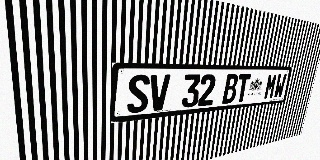2: (198, 74, 216, 106)
3: (181, 74, 201, 108)
B: (222, 74, 239, 104)
M: (263, 74, 278, 100)
S: (127, 75, 150, 114)
T: (235, 74, 251, 103)
V: (149, 74, 170, 111)
W: (273, 74, 287, 99)
